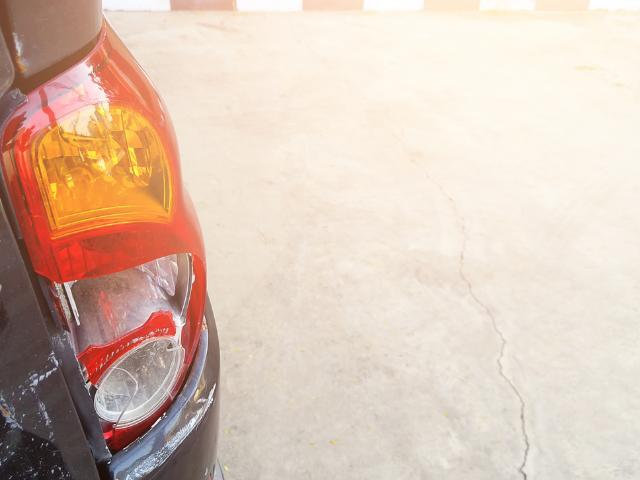Dickey: (0, 355, 79, 480)
Light: (39, 64, 211, 422)
